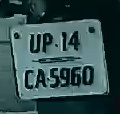0: (82, 64, 96, 86)
1: (61, 29, 68, 54)
4: (69, 29, 82, 53)
5: (49, 66, 61, 93)
6: (69, 65, 82, 88)
9: (60, 65, 69, 89)
A: (35, 66, 47, 91)
C: (23, 67, 35, 92)
P: (41, 31, 53, 55)
U: (27, 32, 42, 57)
